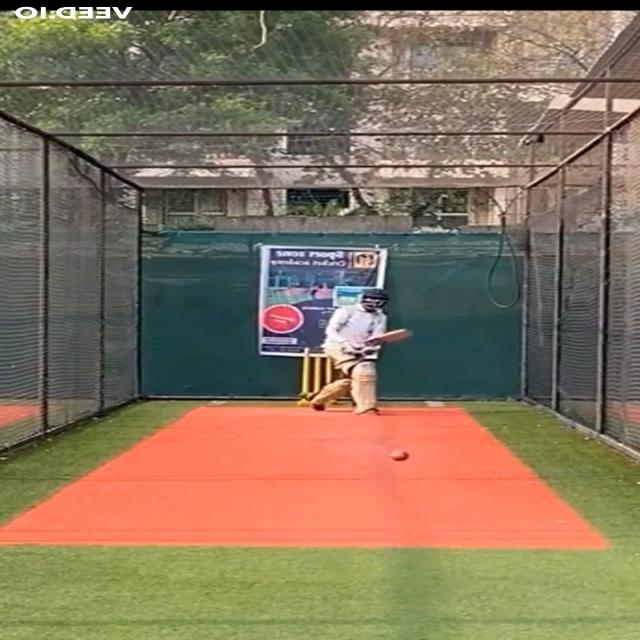ball: (389, 448, 413, 464)
stump: (298, 346, 338, 406)
